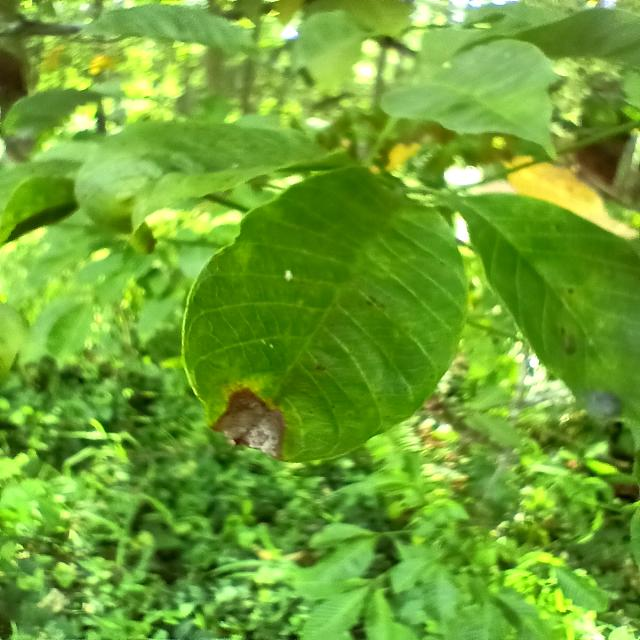Leaf-Blight: (211, 389, 286, 459)
